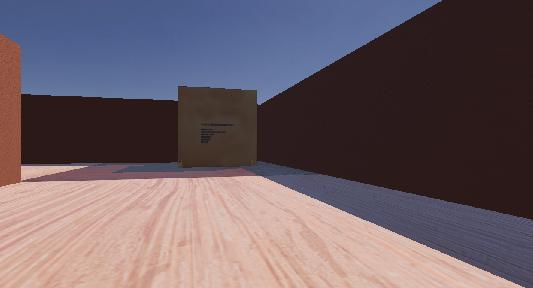CardboardBox: (166, 75, 268, 177)
